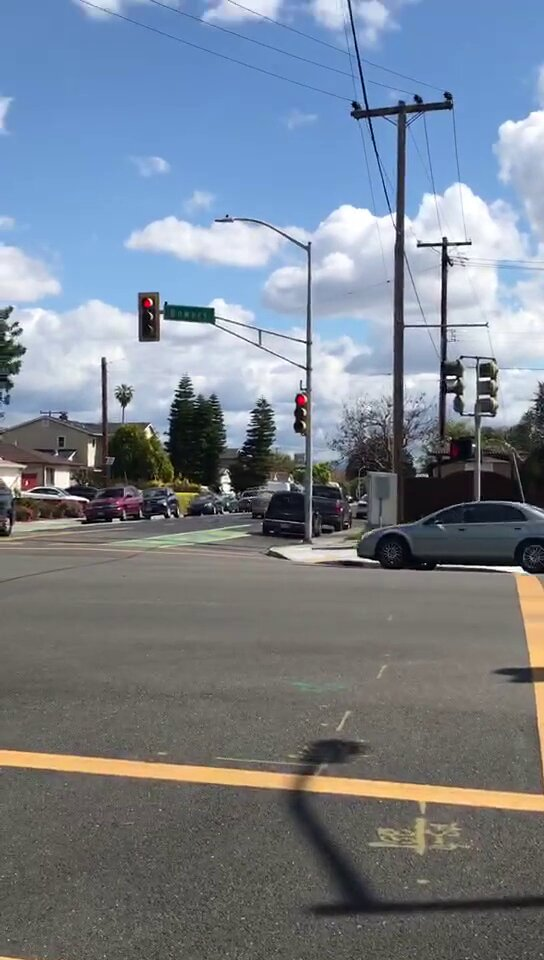red_light: (139, 293, 160, 341), (295, 393, 310, 432)
